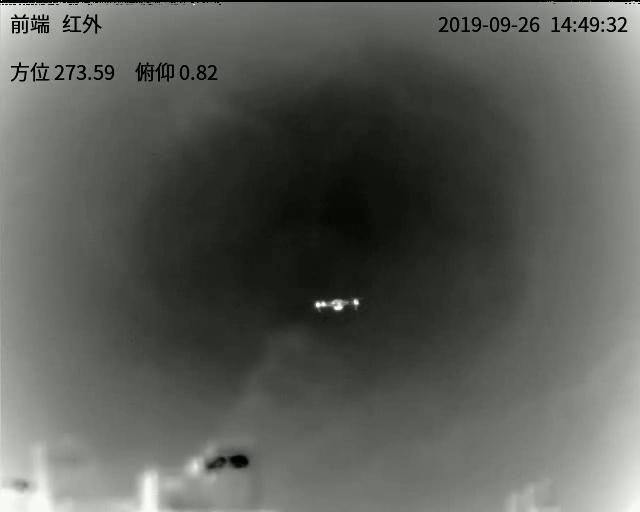DRONE: (315, 296, 361, 315)
